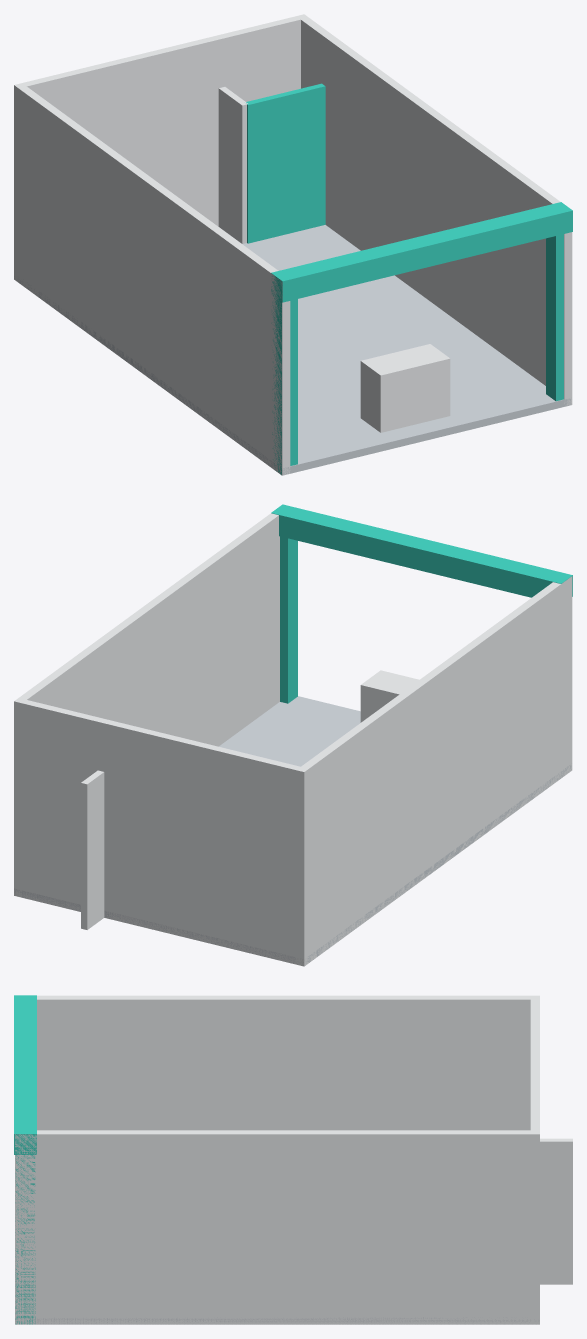
3 renders of one model, top to bottom at view 1: azimuth 30°, elevation 25°; view 2: azimuth 150°, elevation 25°; view 3: azimuth 270°, elevation 25°, orthographic. The views are drawn at different scales.
Parts seen in each view (by area): view 1: Exhibition Booth Concept; view 2: Exhibition Booth Concept; view 3: Exhibition Booth Concept.
Part boxes in pixels (x1,y1,x2,y2): Exhibition Booth Concept: [14, 14, 572, 475]; Exhibition Booth Concept: [14, 504, 572, 966]; Exhibition Booth Concept: [14, 995, 572, 1324].
Size of the model in its own units: 5 by 3.2 by 8.52.
